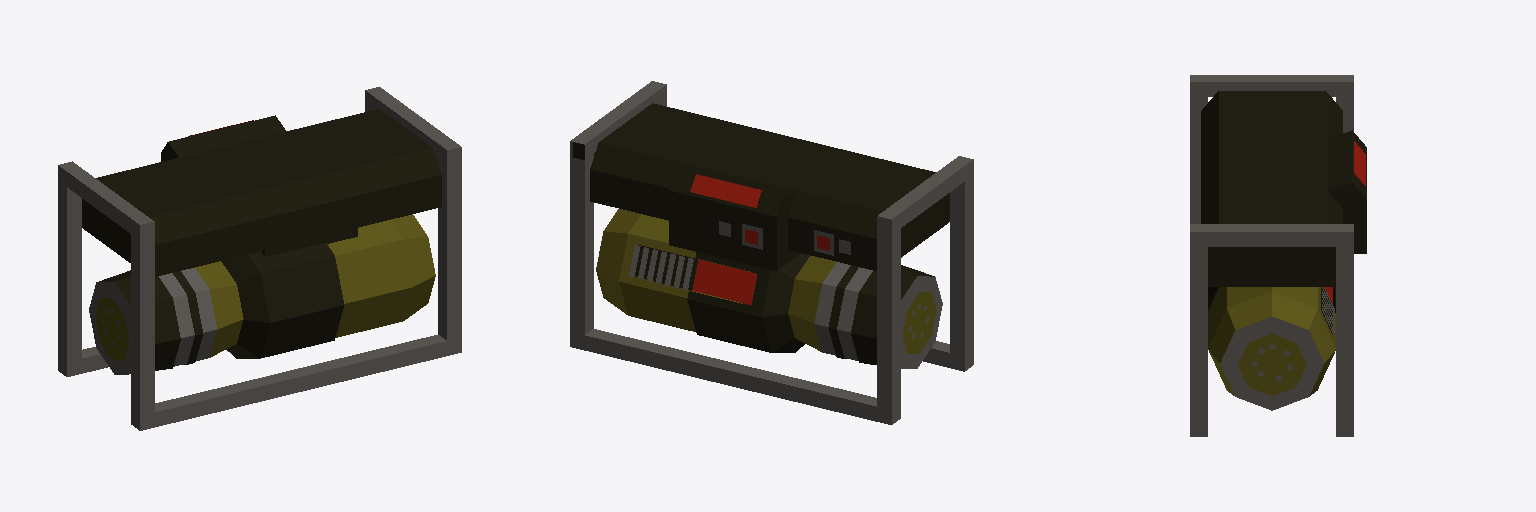
The picture shows the model from 3 angles: view 1: azimuth 30°, elevation 25°; view 2: azimuth 150°, elevation 25°; view 3: azimuth 270°, elevation 25°; orthographic projection.
Parts seen in each view (by area): view 1: Cylinder.001; view 2: Cylinder.001; view 3: Cylinder.001.
Boxes of the visible parts, <box> form: Cylinder.001: <box>58,87,461,430</box>; Cylinder.001: <box>570,81,973,424</box>; Cylinder.001: <box>1190,75,1366,436</box>.
Size of the model in its own units: 2.09 by 1.28 by 1.01.
Materials: 1 (1 with a texture image).